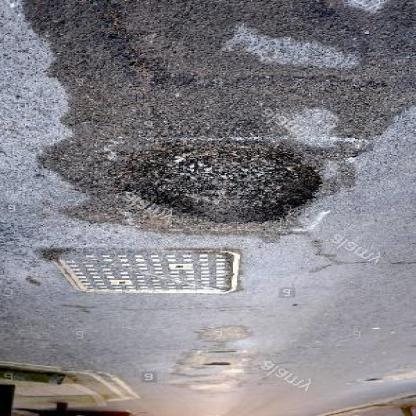pothole: (105, 139, 324, 230), (201, 363, 237, 369)
